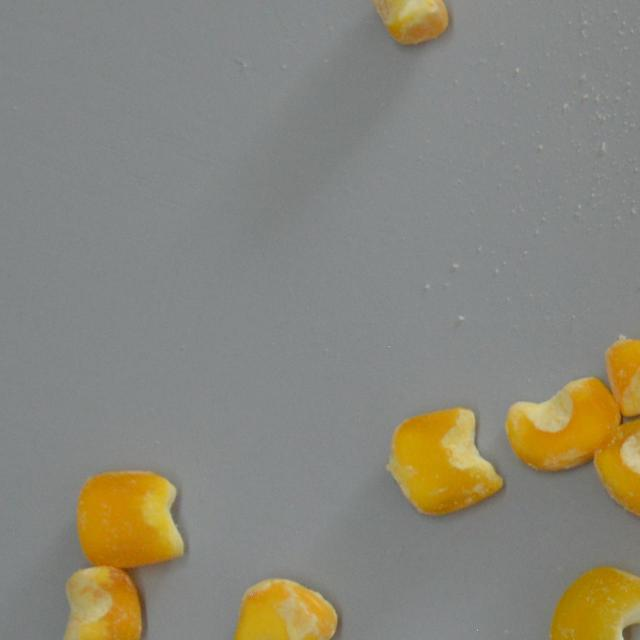pelicula: (388, 407, 503, 516), (504, 374, 620, 472), (76, 465, 184, 568), (230, 574, 338, 640), (548, 563, 640, 640), (61, 564, 142, 640), (594, 415, 640, 520), (368, 0, 450, 46), (604, 336, 640, 418)
